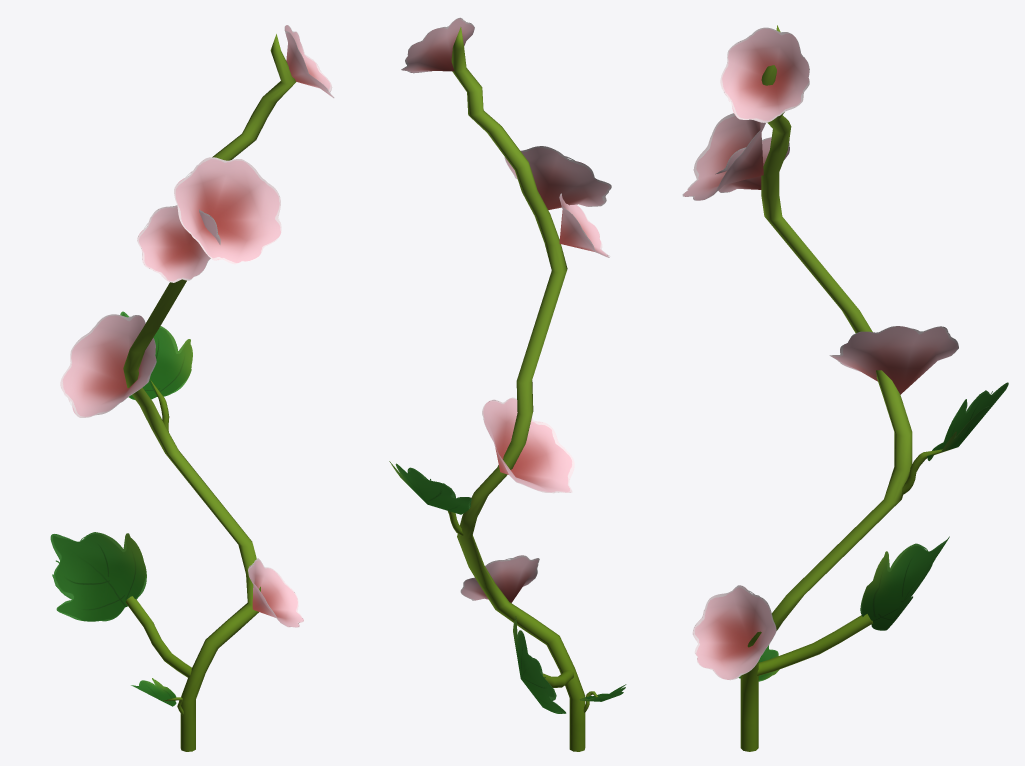
File: trem.fbx
3 renders of one model, left to right at view 1: azimuth 30°, elevation 25°; view 2: azimuth 150°, elevation 25°; view 3: azimuth 270°, elevation 25°, orthographic. The views are drawn at different scales.
Visible parts, largest first — view 1: pPlane14; view 2: pPlane14; view 3: pPlane14.
Boxes of the visible parts, left/top/right/bottom form: pPlane14: left=50, top=25, right=334, bottom=751; pPlane14: left=389, top=17, right=626, bottom=751; pPlane14: left=682, top=25, right=1008, bottom=751.
Bounding box in the file's own units: 258 × 717 × 279.
